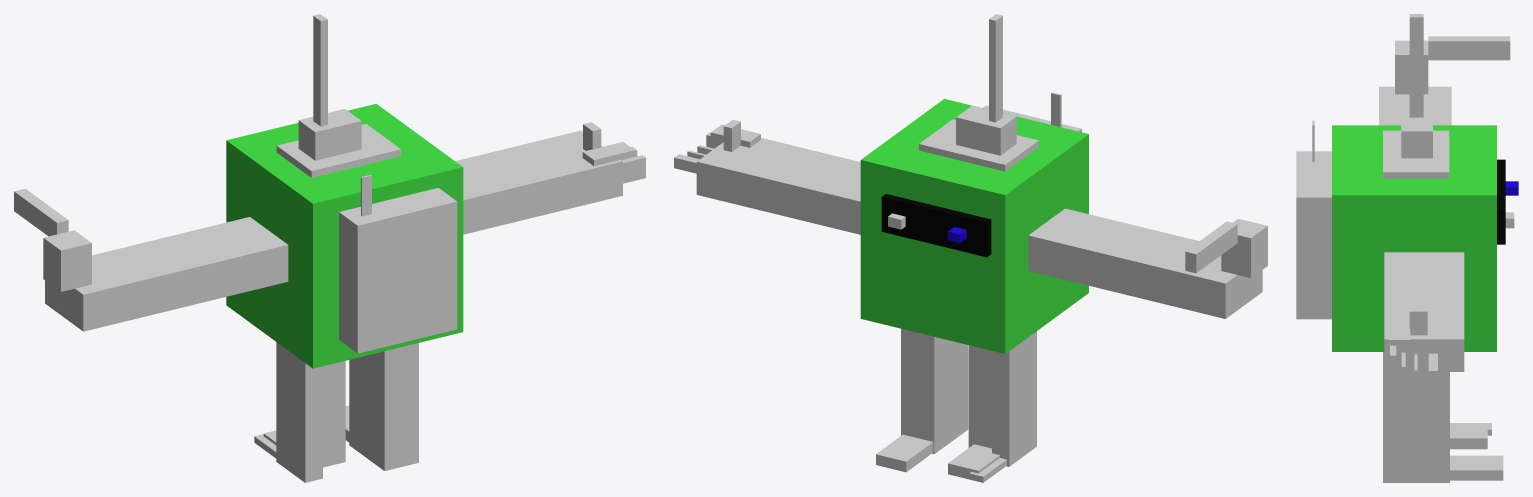
The model's file is guy.glb.
3 renders of one model, left to right at view 1: azimuth 30°, elevation 25°; view 2: azimuth 150°, elevation 25°; view 3: azimuth 270°, elevation 25°, orthographic. The views are drawn at different scales.
Parts seen in each view (by area): view 1: Cube, Cube.023, Cube.003, Cube.002, Cube.015, Cube.016, Cube.004, Cube.013, Cube.005, Cube.019, Cube.006, Cube.014 (+1 smaller); view 2: Cube, Cube.003, Cube.002, Cube.015, Cube.016, Cube.001, Cube.019, Cube.004, Cube.005, Cube.013, Cube.014, Cube.006 (+2 smaller); view 3: Cube, Cube.002, Cube.015, Cube.023, Cube.004, Cube.014, Cube.003, Cube.006, Cube.005, Cube.017, Cube.013, Cube.020 (+4 smaller).
Part boxes in pixels (x1,y1,x2,y2): Cube: [226, 103, 463, 368]; Cube.023: [339, 188, 457, 353]; Cube.003: [45, 217, 288, 331]; Cube.002: [455, 130, 622, 234]; Cube.015: [349, 343, 418, 470]; Cube.016: [276, 342, 322, 482]; Cube.004: [276, 124, 400, 177]; Cube.013: [43, 230, 91, 291]; Cube.005: [298, 109, 361, 160]; Cube.019: [323, 361, 345, 467]; Cube.006: [313, 14, 327, 126]; Cube.014: [14, 188, 68, 236]; Cube: [860, 99, 1088, 353]; Cube.003: [1028, 208, 1262, 318]; Cube.002: [696, 138, 860, 234]; Cube.015: [901, 328, 968, 454]; Cube.016: [992, 331, 1036, 466]; Cube.001: [881, 194, 991, 257]; Cube.019: [968, 345, 991, 448]; Cube.004: [919, 119, 1038, 171]; Cube.005: [956, 105, 1016, 155]; Cube.013: [1221, 218, 1267, 277]; Cube.014: [1185, 221, 1237, 273]; Cube.006: [989, 14, 1002, 122]; Cube: [1332, 125, 1496, 351]; Cube.002: [1384, 252, 1464, 371]; Cube.015: [1383, 352, 1449, 482]; Cube.023: [1296, 151, 1331, 319]; Cube.004: [1383, 130, 1449, 178]; Cube.014: [1428, 36, 1510, 60]; Cube.003: [1379, 86, 1451, 125]; Cube.006: [1409, 14, 1423, 117]; Cube.005: [1401, 109, 1432, 158]; Cube.017: [1450, 455, 1503, 480]; Cube.013: [1395, 40, 1428, 94]; Cube.020: [1450, 423, 1487, 449].
Bounding box in the file's own units: 7.91 × 5.75 × 2.7.
